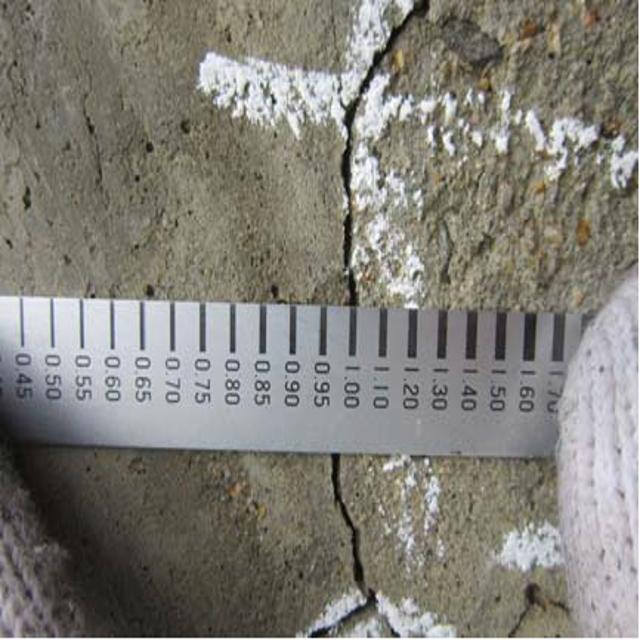crack: (308, 4, 413, 299), (317, 464, 396, 639)
